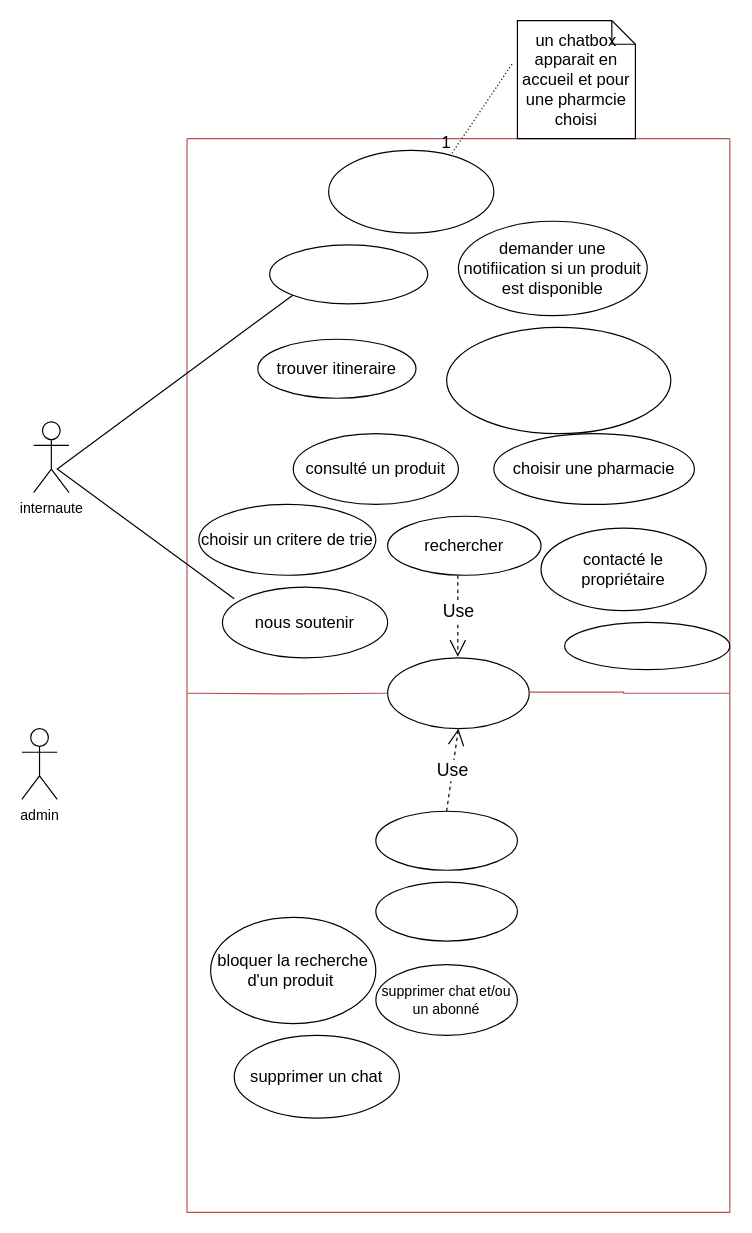
This 752x1233 diagram has some shape labels left out. Here are the shapes that lost their labels. From the top down, the centre of each, then its label:
At point 410,191: "consulté les avis dans le chat public".
At point 348,274: "ajouter au favoris".
At point 558,380: "enregistrer une capture de l'itinéraire et l'envoyé si besoin".
At point 646,645: "signaler un chat".
At point 457,693: "s'authentifier".
